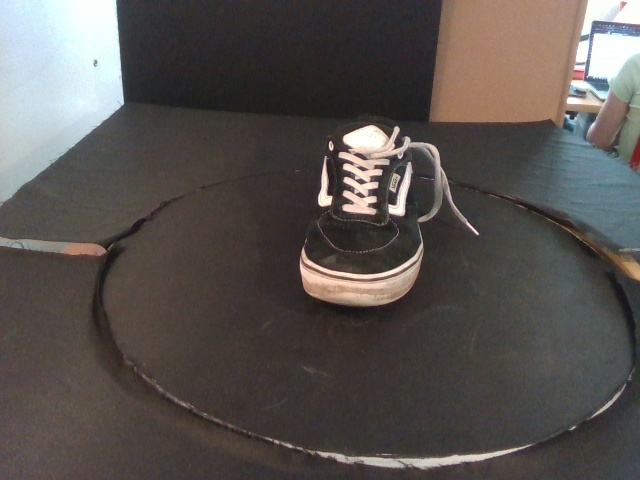shoe: (299, 113, 424, 308)
